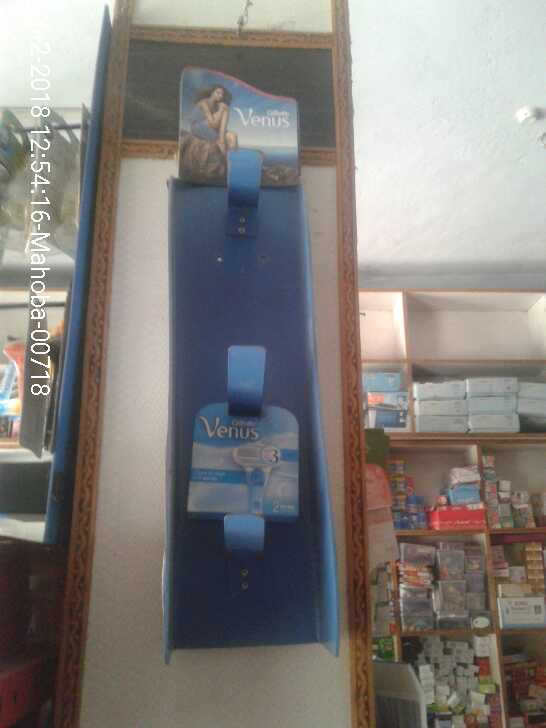venus: (178, 392, 301, 518)
